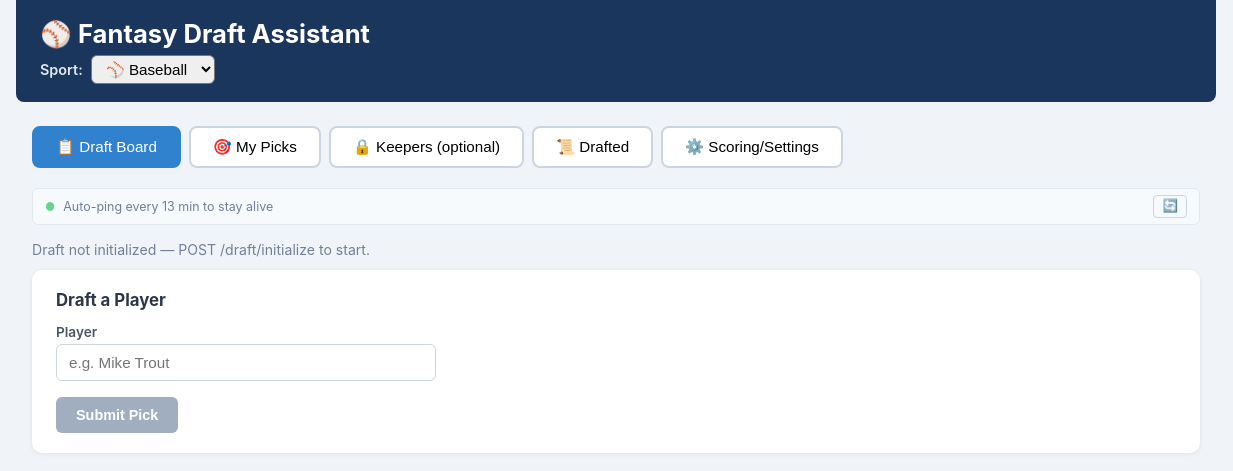
Scenario: Tab navigation › clicking Drafted tab shows the drafted content
Click the tab "📜 Drafted" at x=593, y=147, box x1=532 y1=126 x2=653 y2=168
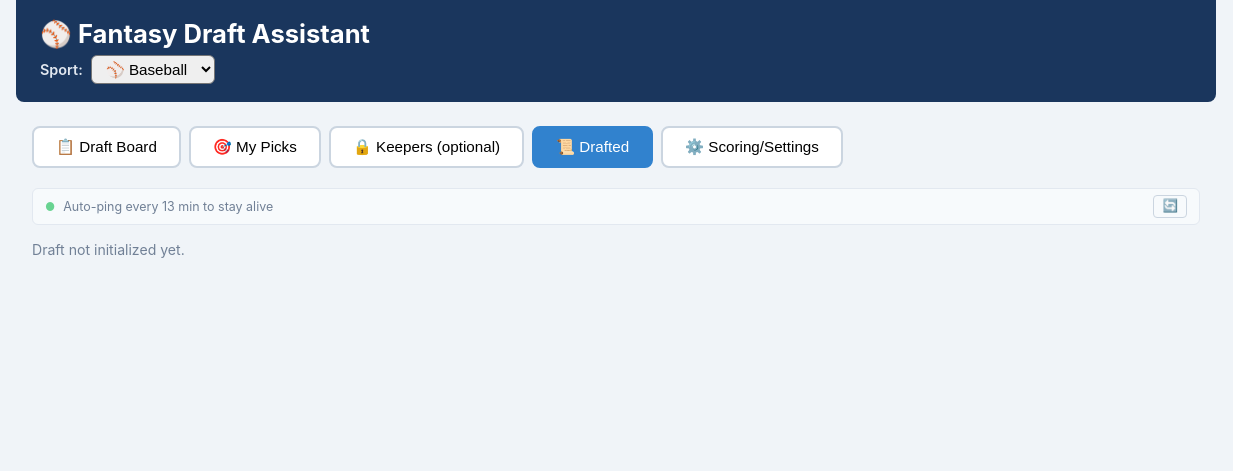
Result: the element with test id "drafted-tab" is shown at x1=32 y1=242 x2=185 y2=258
